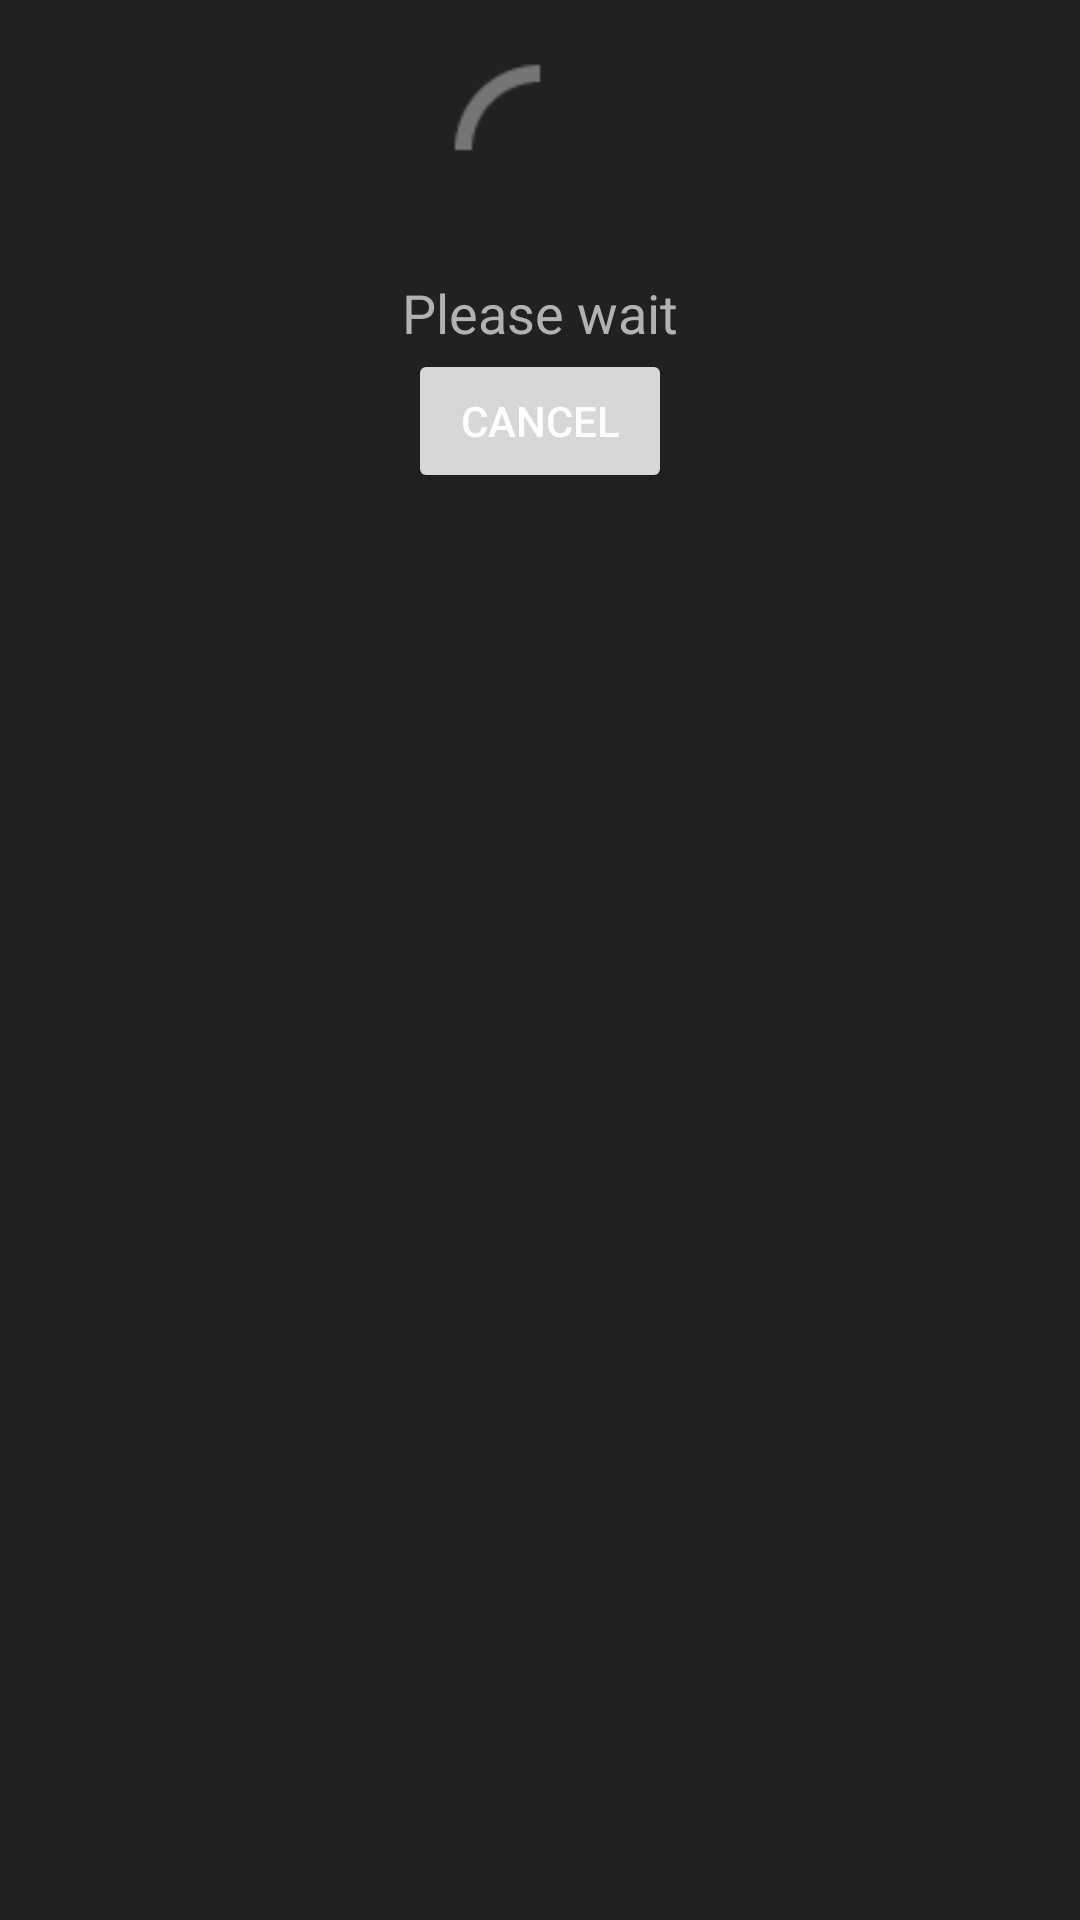

Icon click points for this 1080 × 1920 phone screenshot, format (x=x, y=y):
loading: (x=497, y=107)
